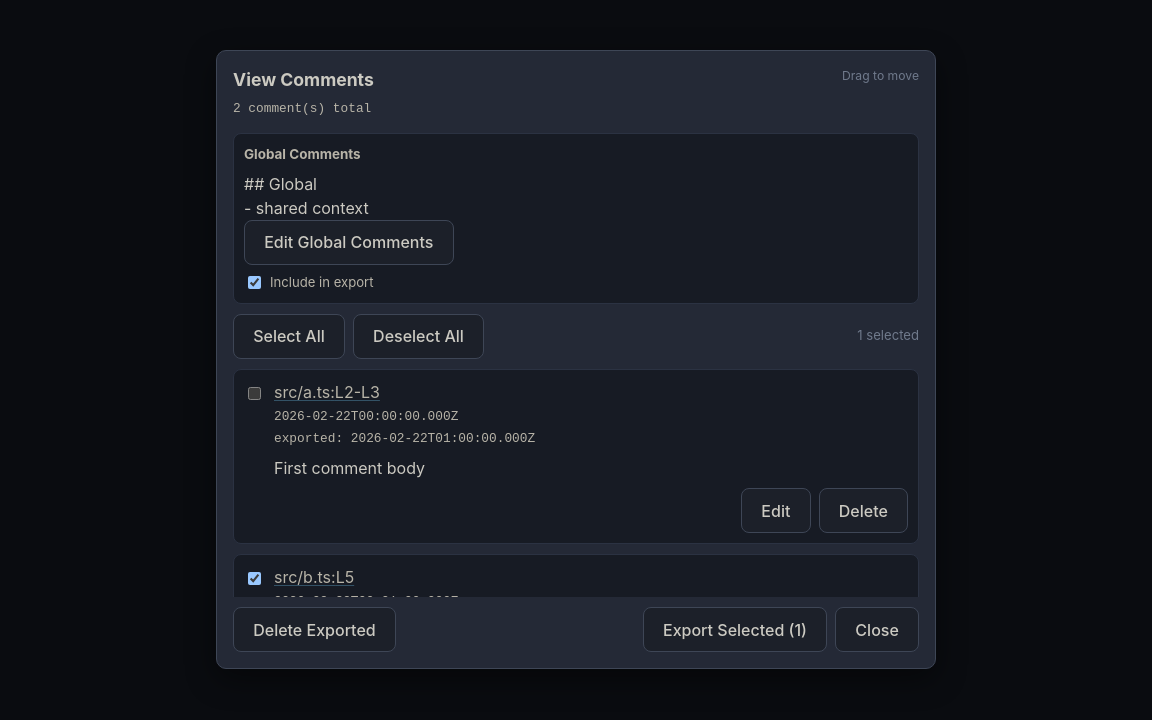
CommentListModal › supports editing and saving global comments from view modal
Click the button "Edit Global Comments" at (349, 243), box [244, 220, 454, 265]
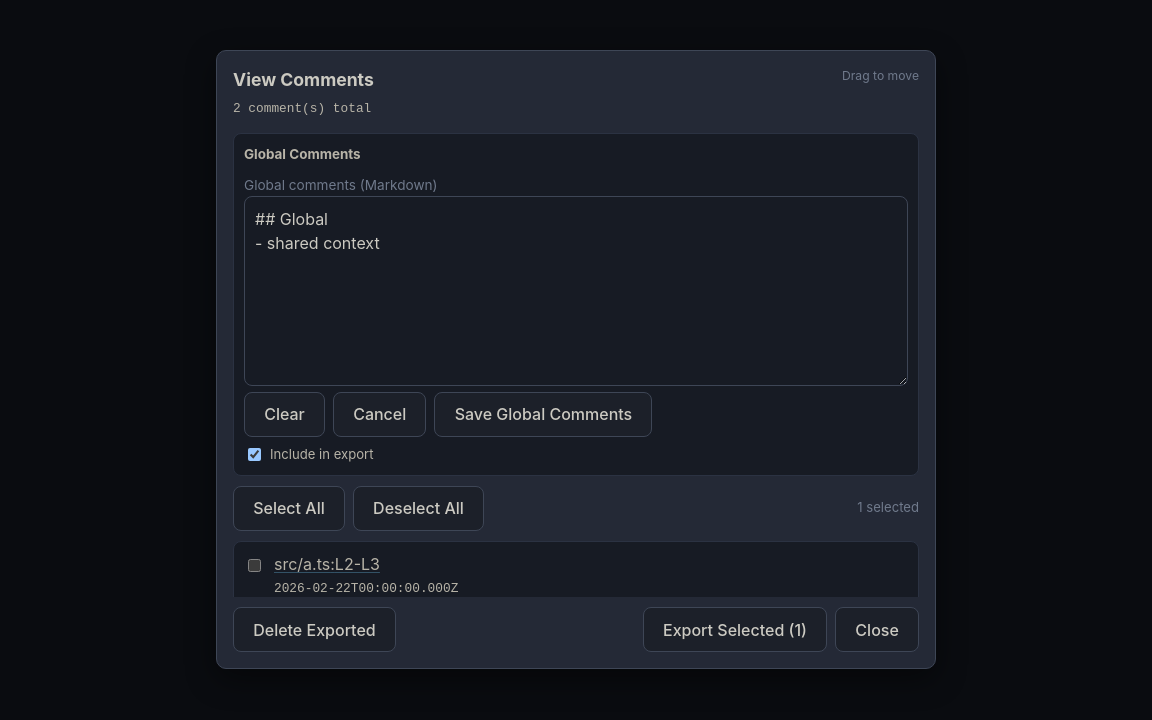
Replace the text in the text box with test id "comment-list-global-editor" with "Updated global context" at (576, 291), box [244, 196, 908, 386]
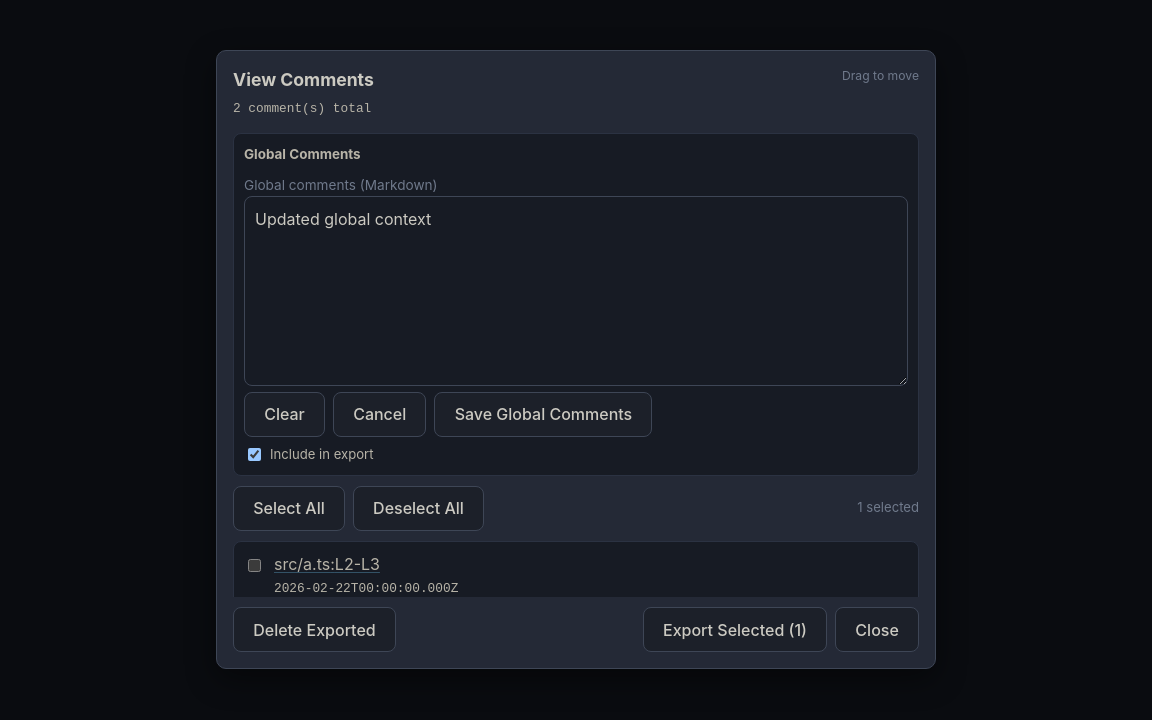
Click the button with test id "save-global-comments-button" at (544, 415), box [434, 392, 652, 437]
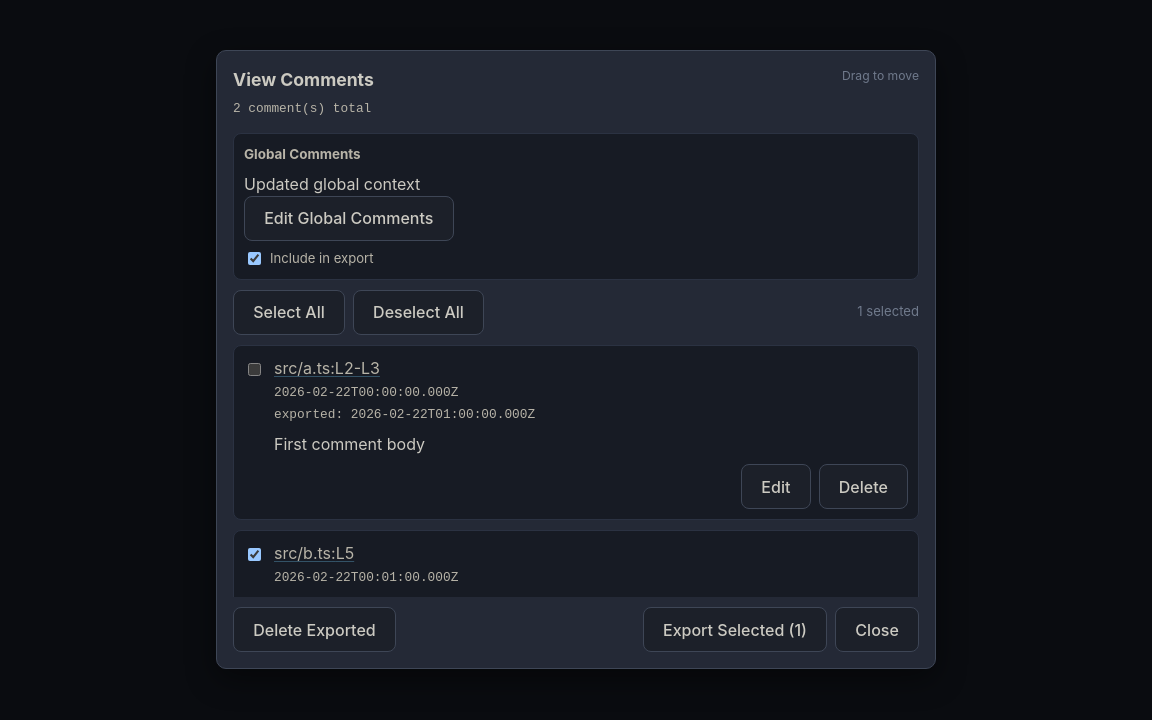
Result: the text with test id "comment-list-global-body" reads "Updated global context" at [244, 174, 420, 194]
